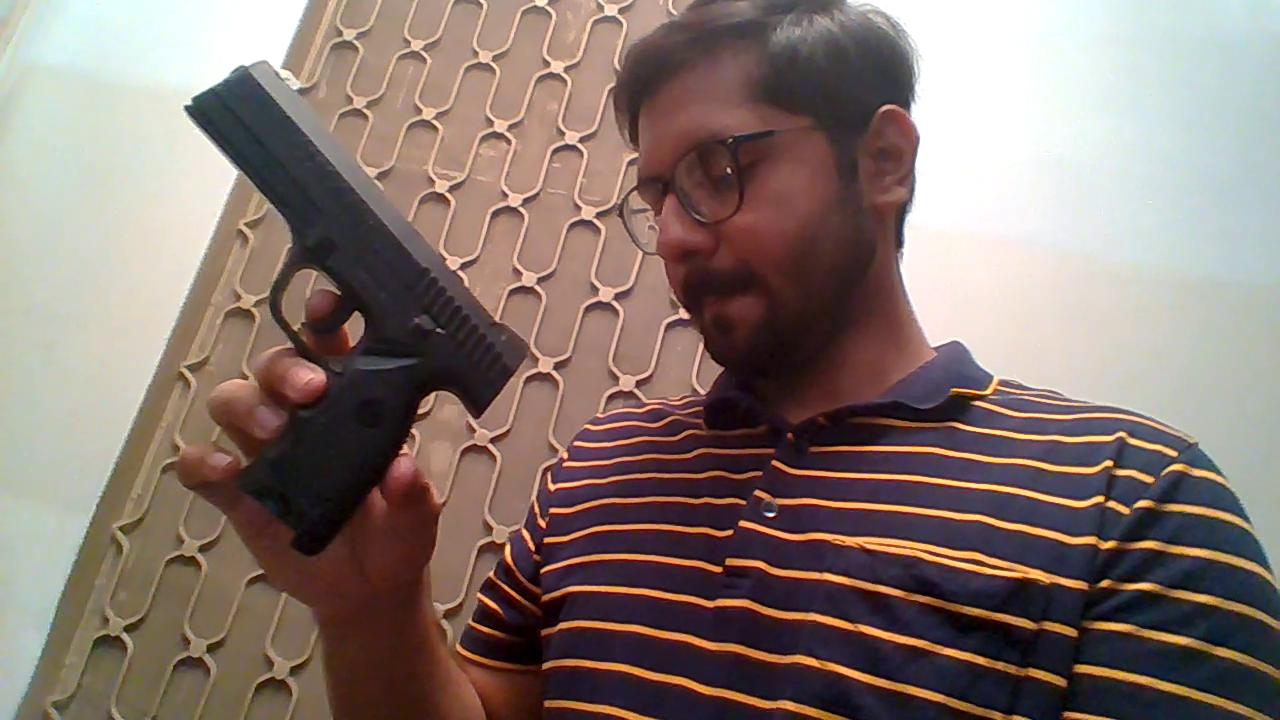criminal: (178, 0, 1280, 720)
weapon: (180, 55, 530, 554)
